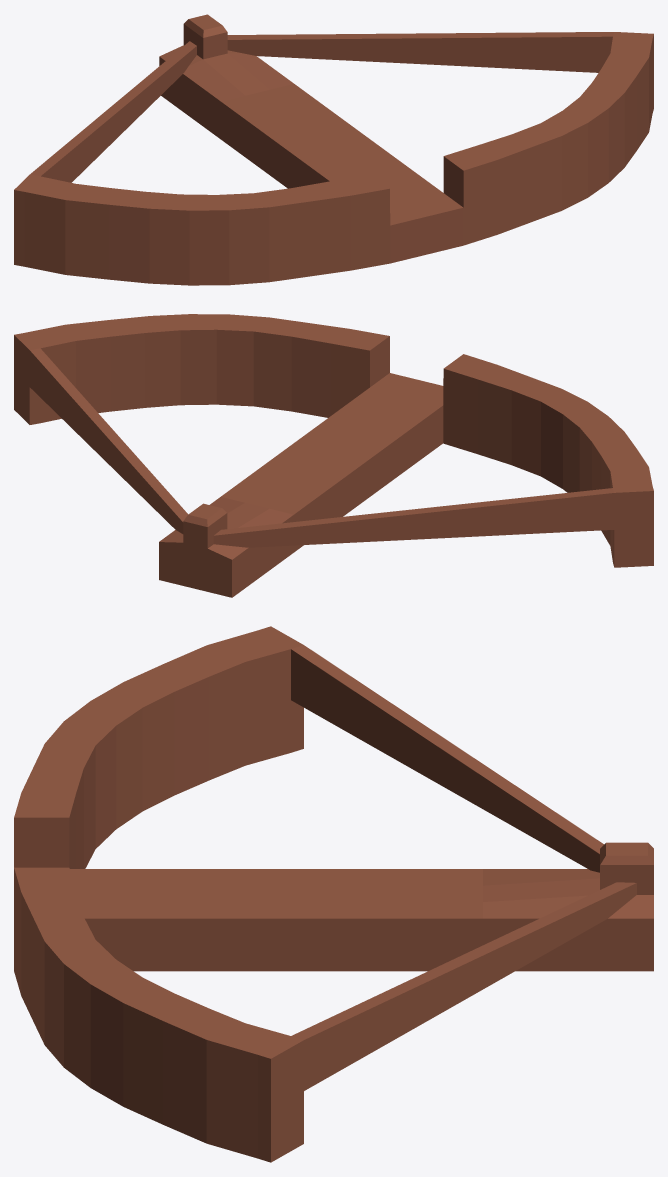
File: ArrowTowerFire.fbx
3 views of the same model, one above another, from view 1: azimuth 30°, elevation 25°; view 2: azimuth 150°, elevation 25°; view 3: azimuth 270°, elevation 25° (orthographic). The views are drawn at different scales.
Parts seen in each view (by area): view 1: ArrowFire; view 2: ArrowFire; view 3: ArrowFire.
Boxes of the visible parts, left/top/right/bottom form: ArrowFire: left=14, top=14, right=653, bottom=285; ArrowFire: left=14, top=314, right=653, bottom=597; ArrowFire: left=14, top=626, right=653, bottom=1162.
Bounding box in the file's own units: 22.91 × 2.57 × 14.32.
